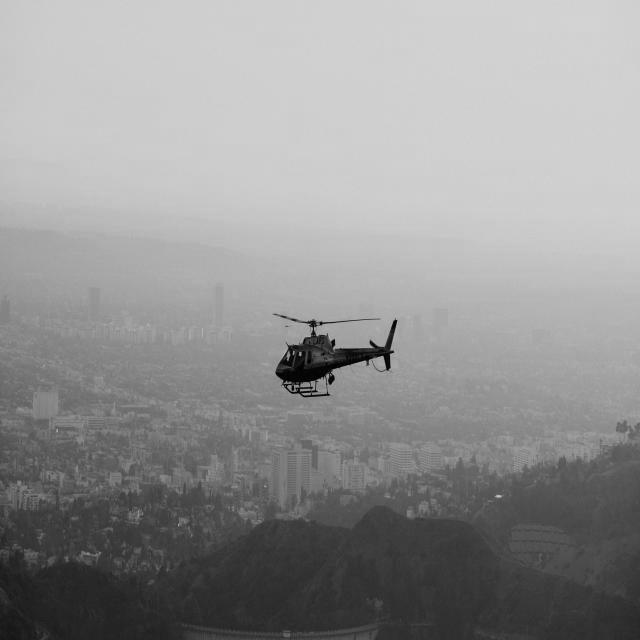helikopter: (255, 303, 419, 405)
